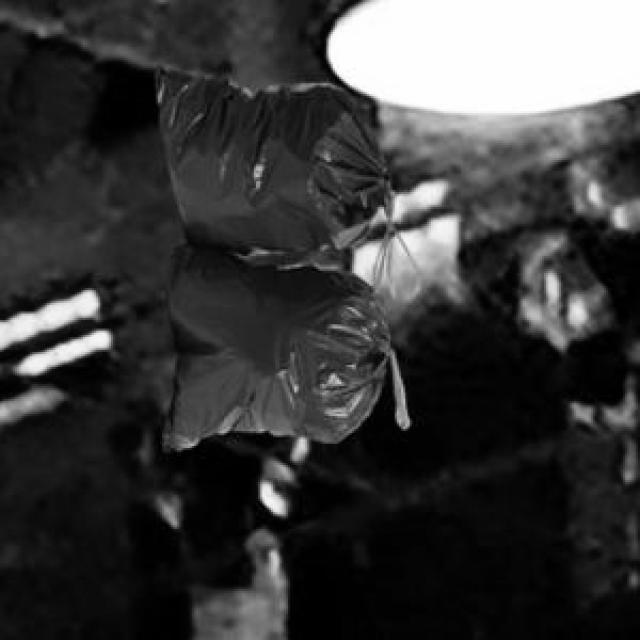miscellaneous trash: (152, 63, 401, 448)
